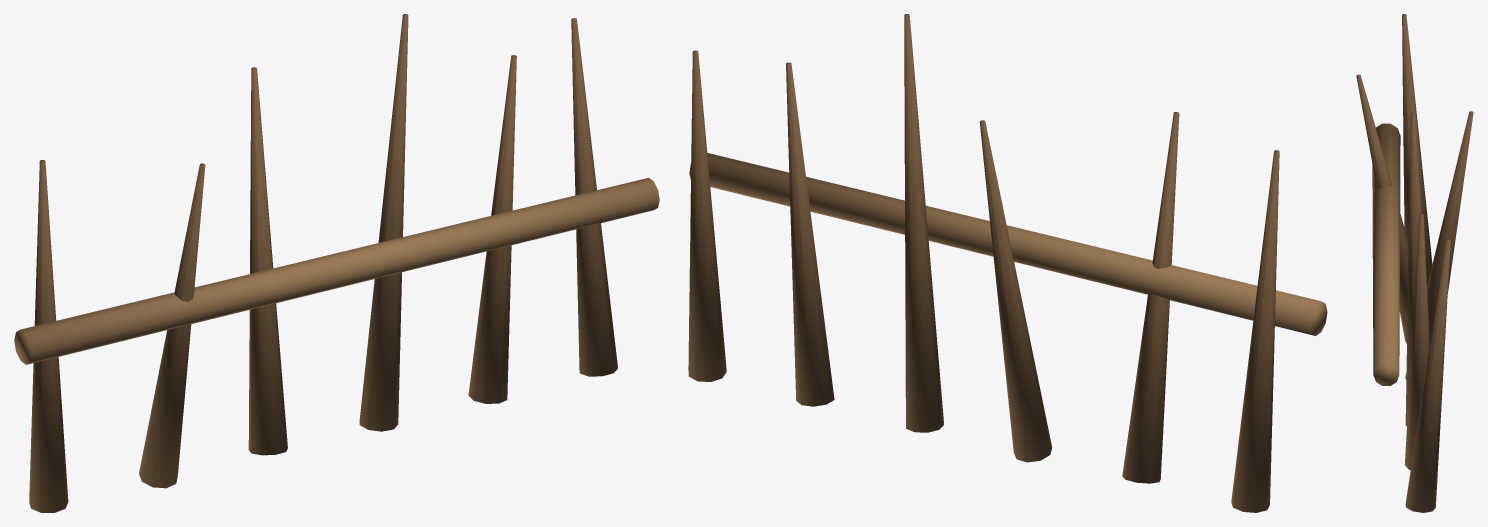
File: spike_barrier.glb
3 views of the same model, side by side, from view 1: azimuth 30°, elevation 25°; view 2: azimuth 150°, elevation 25°; view 3: azimuth 270°, elevation 25° (orthographic). The views are drawn at different scales.
Visible parts, largest first — view 1: spike_rail, spike_3, spike_2, spike_5, spike_0, spike_4, spike_1; view 2: spike_rail, spike_3, spike_0, spike_2, spike_1, spike_4, spike_5; view 3: spike_rail, spike_5, spike_4, spike_0, spike_2, spike_3, spike_1.
Part boxes in pixels (x1,y1,x2,y2): spike_rail: [14, 177, 659, 364]; spike_3: [359, 14, 408, 431]; spike_2: [248, 67, 287, 455]; spike_5: [571, 18, 617, 376]; spike_0: [29, 160, 68, 512]; spike_4: [468, 55, 516, 403]; spike_1: [139, 163, 205, 488]; spike_rail: [689, 153, 1327, 335]; spike_3: [904, 14, 943, 432]; spike_0: [1231, 150, 1279, 512]; spike_2: [979, 120, 1052, 462]; spike_1: [1122, 112, 1179, 483]; spike_4: [786, 62, 834, 406]; spike_5: [688, 50, 726, 381]; spike_rail: [1372, 123, 1400, 385]; spike_5: [1405, 239, 1450, 512]; spike_4: [1405, 213, 1429, 470]; spike_0: [1402, 14, 1432, 285]; spike_2: [1405, 111, 1473, 379]; spike_3: [1405, 113, 1430, 425]; spike_1: [1356, 74, 1408, 343].
Bounding box in the file's own units: 2 × 1.25 × 0.4147.
